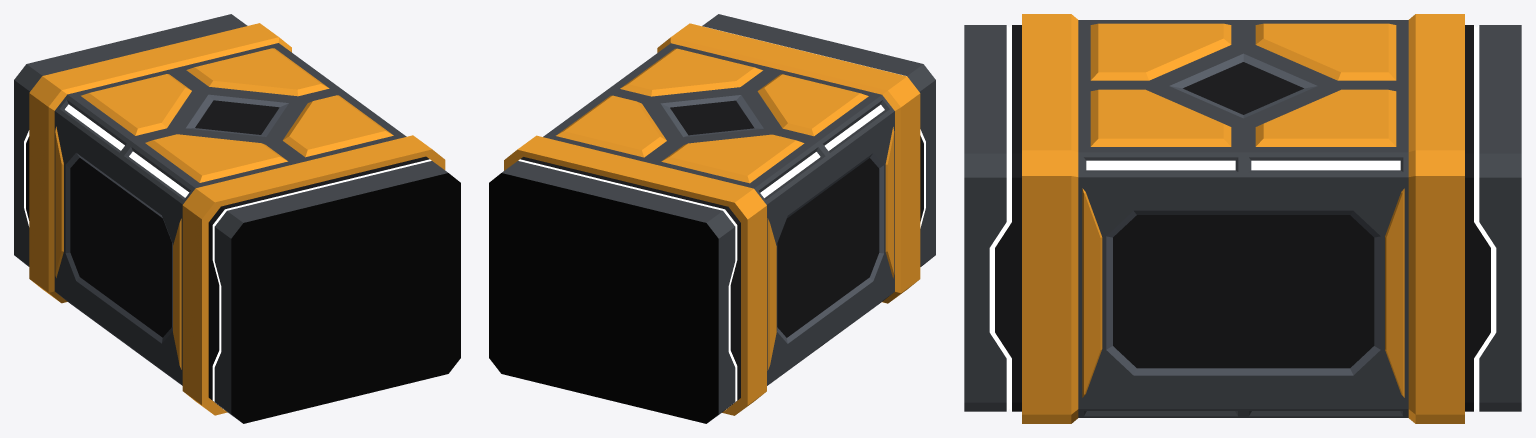
File: SM_Coveyor_elevator-2m.glb
3 views of the same model, side by side, from view 1: azimuth 30°, elevation 25°; view 2: azimuth 150°, elevation 25°; view 3: azimuth 270°, elevation 25° (orthographic). The views are drawn at different scales.
Parts seen in each view (by area): view 1: SM_Coveyor_elevator-2m; view 2: SM_Coveyor_elevator-2m; view 3: SM_Coveyor_elevator-2m.
Part boxes in pixels (left/top/right/bottom): SM_Coveyor_elevator-2m: left=14, top=14, right=460, bottom=423; SM_Coveyor_elevator-2m: left=489, top=14, right=935, bottom=423; SM_Coveyor_elevator-2m: left=964, top=14, right=1521, bottom=423.
Bounding box in the file's own units: 1.3 × 1.09 × 2.
2 materials, 1 textured.
